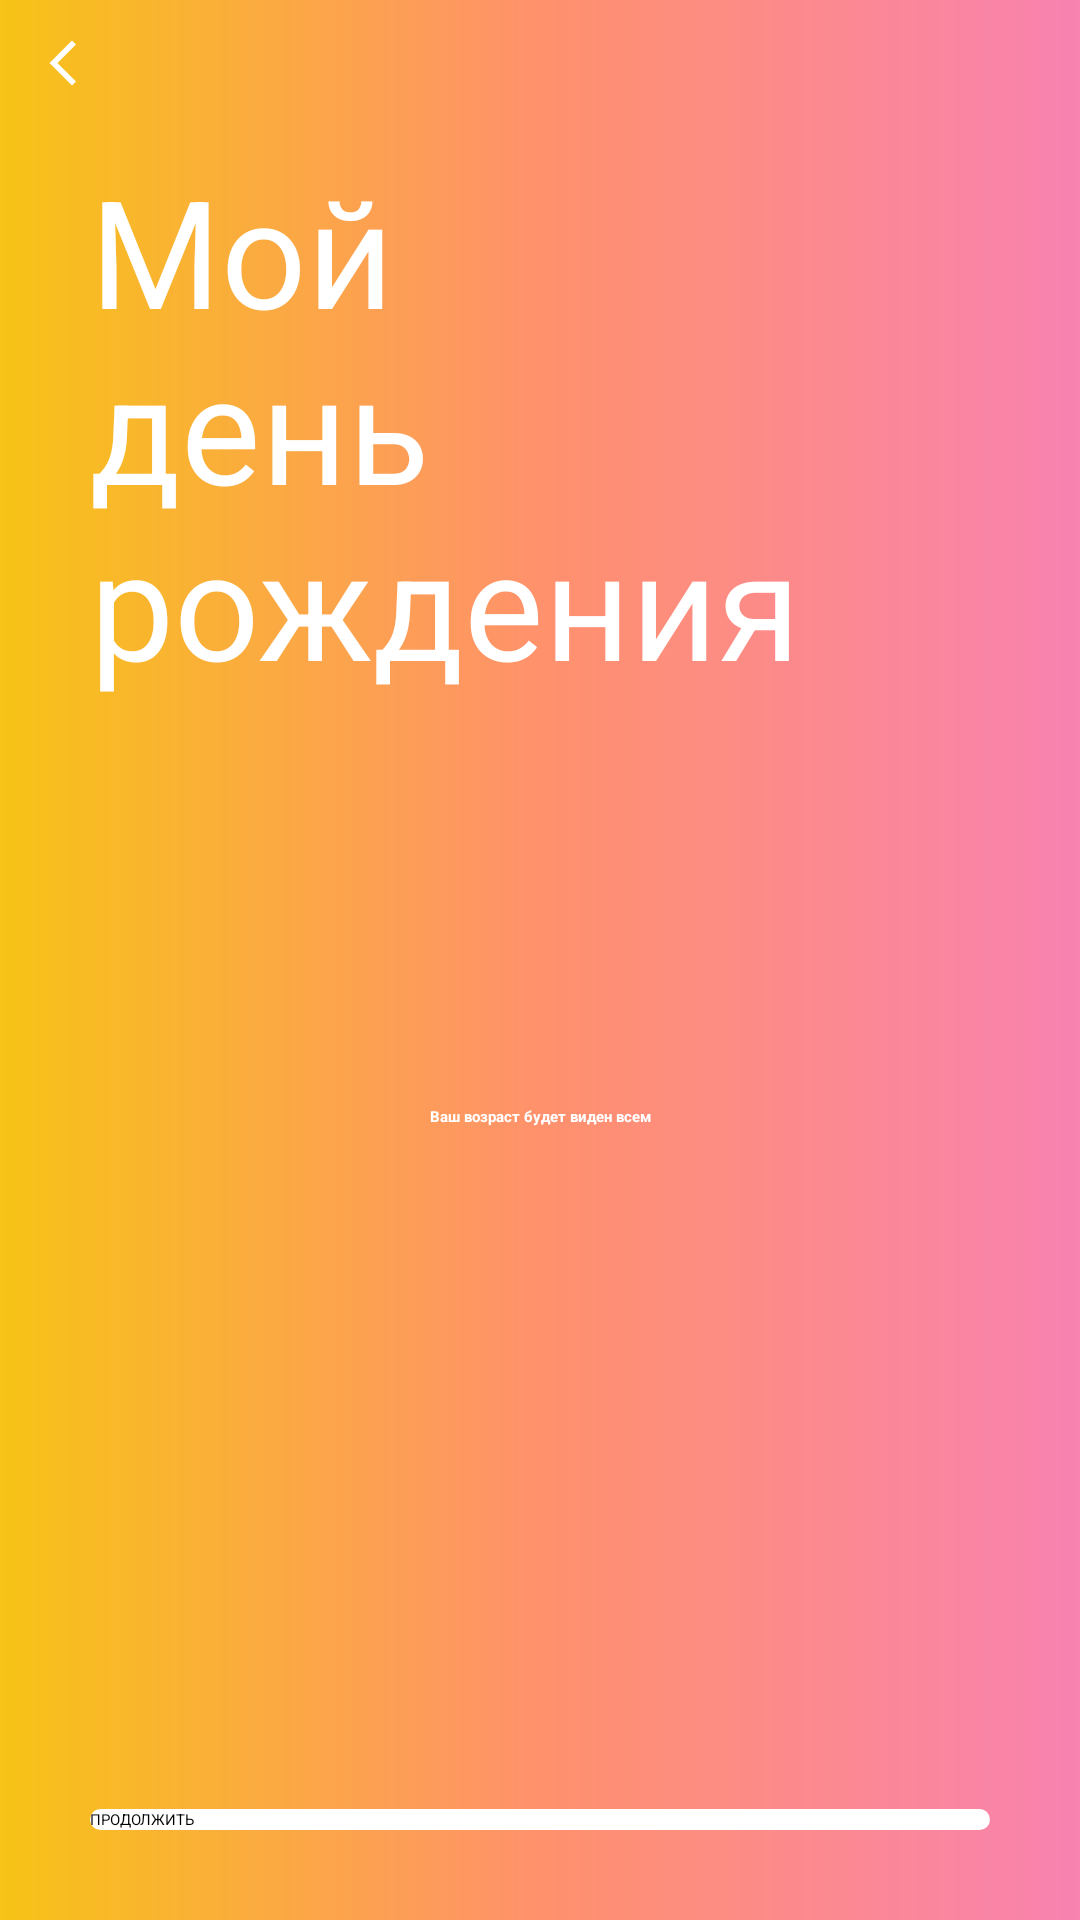

Icon click points for this 1080w x 1920h phone screenshot, format [x,y]:
back: [63,63]
